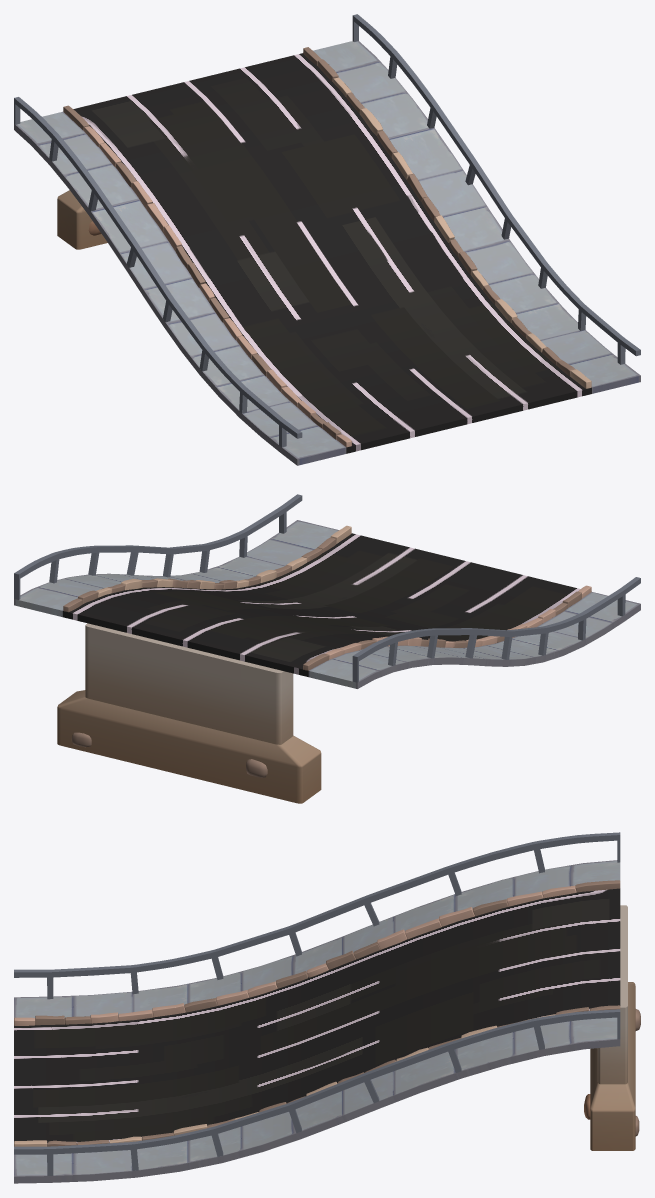
File: Bridge_Seperated.fbx
The picture shows the model from 3 angles, top to bottom: view 1: azimuth 30°, elevation 25°; view 2: azimuth 150°, elevation 25°; view 3: azimuth 270°, elevation 25°; orthographic projection. The views are drawn at different scales.
Visible parts, largest first — view 1: CityRoad_bridgeStartEndWide_mesh, CityRoad_bridgeStartEndWide_mesh.002, CityRoad_bridgeStartEndWide_mesh.001; view 2: CityRoad_bridgeStartEndWide_mesh.001, CityRoad_bridgeStartEndWide_mesh, CityRoad_bridgeStartEndWide_mesh.002; view 3: CityRoad_bridgeStartEndWide_mesh, CityRoad_bridgeStartEndWide_mesh.002, CityRoad_bridgeStartEndWide_mesh.001.
Part boxes in pixels (box(x1,y1,x2,y2)): CityRoad_bridgeStartEndWide_mesh: box(73, 53, 591, 453); CityRoad_bridgeStartEndWide_mesh.002: box(14, 41, 640, 465); CityRoad_bridgeStartEndWide_mesh.001: box(14, 14, 640, 447); CityRoad_bridgeStartEndWide_mesh.001: box(14, 494, 640, 803); CityRoad_bridgeStartEndWide_mesh: box(63, 533, 580, 676); CityRoad_bridgeStartEndWide_mesh.002: box(14, 520, 640, 688); CityRoad_bridgeStartEndWide_mesh: box(14, 888, 620, 1143); CityRoad_bridgeStartEndWide_mesh.002: box(14, 860, 620, 1183); CityRoad_bridgeStartEndWide_mesh.001: box(14, 832, 640, 1175).
Size of the model in its own units: 1400 by 625 by 2068.
